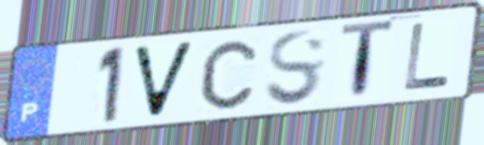1: (94, 43, 130, 128)
C: (199, 37, 260, 112)
L: (402, 20, 454, 93)
S: (263, 28, 329, 109)
T: (337, 17, 398, 104)
V: (129, 39, 199, 122)
